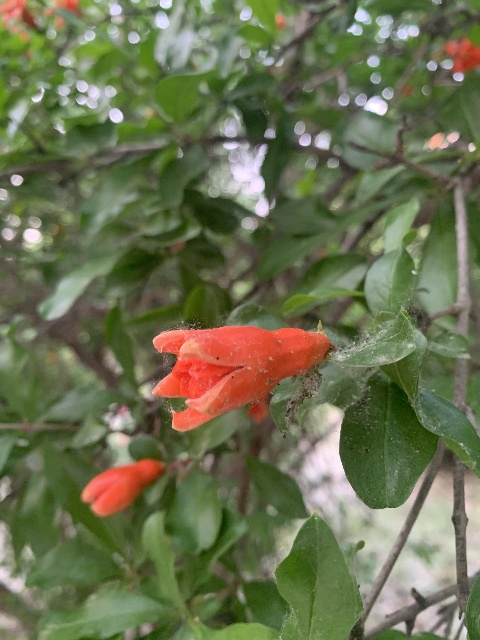flower: (150, 323, 330, 430), (80, 459, 164, 516), (444, 38, 480, 74)
